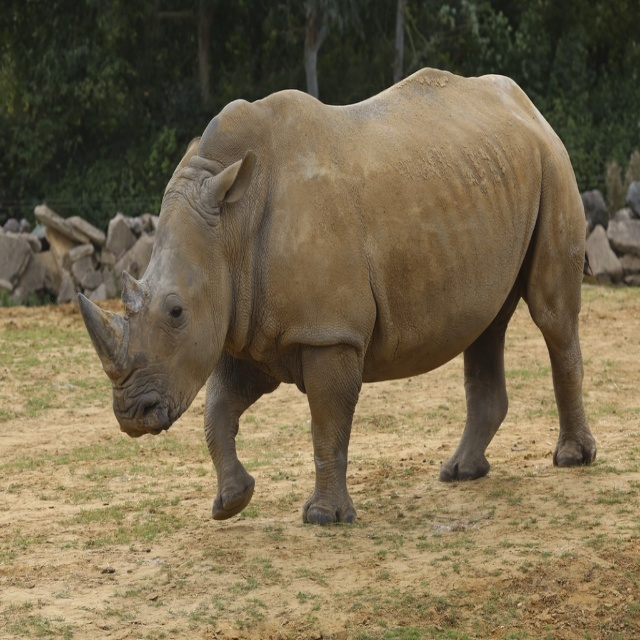Rhinoceros: (72, 62, 600, 540)
